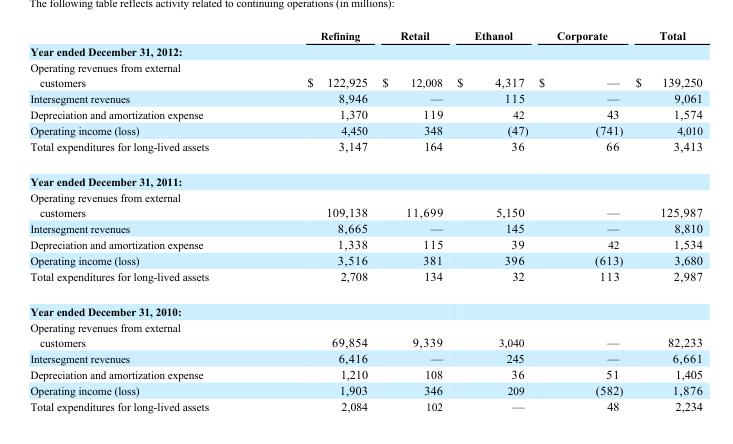table: (29, 28, 701, 412)
table column: (29, 28, 257, 412), (257, 28, 374, 412), (532, 28, 628, 412), (449, 28, 532, 412), (374, 28, 449, 412), (628, 28, 701, 412)
table column header: (29, 28, 701, 43)
table projected row header: (29, 164, 701, 189), (29, 294, 701, 319), (29, 43, 701, 59)
table row: (29, 59, 701, 89), (29, 189, 701, 219), (29, 319, 701, 349), (29, 137, 701, 164), (29, 267, 701, 294), (29, 164, 701, 189), (29, 294, 701, 319), (29, 43, 701, 59), (29, 89, 701, 105), (29, 105, 701, 121), (29, 121, 701, 137), (29, 219, 701, 235), (29, 235, 701, 251), (29, 251, 701, 267), (29, 349, 701, 365), (29, 365, 701, 381), (29, 381, 701, 397), (29, 28, 701, 43), (29, 397, 701, 412)
